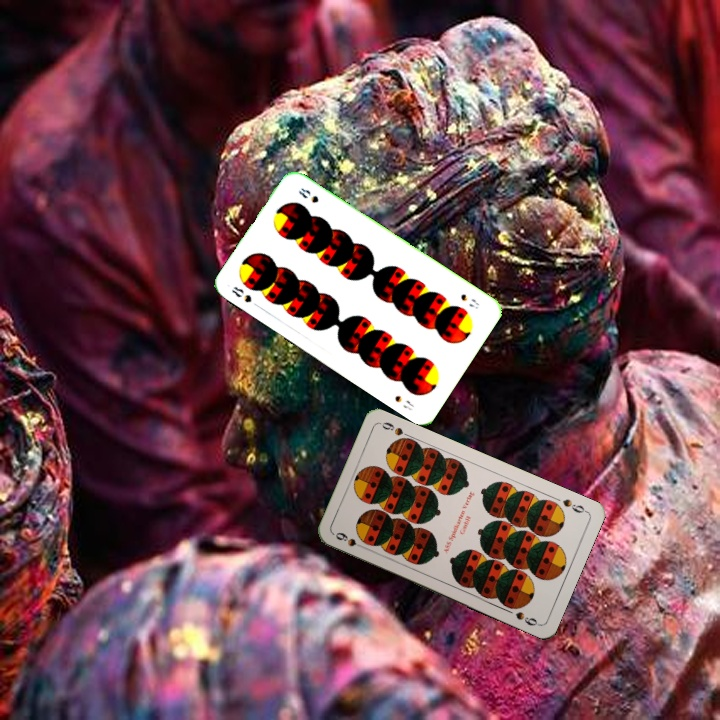S8: (228, 282, 254, 305), (457, 290, 482, 312)
S9: (331, 528, 369, 552), (558, 495, 590, 516)
